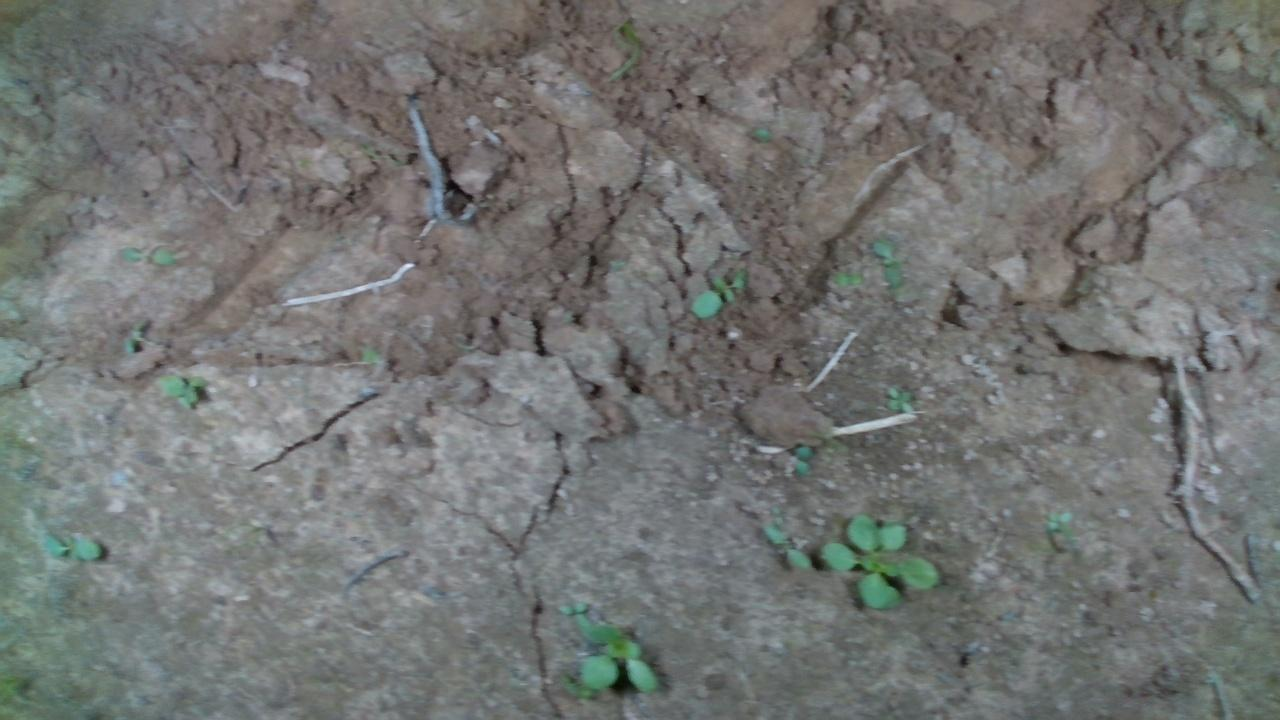weed: (686, 266, 747, 318), (762, 523, 810, 570), (40, 530, 102, 562), (871, 233, 904, 289), (884, 385, 913, 417), (1046, 509, 1073, 534), (828, 269, 864, 287), (791, 443, 811, 475)
